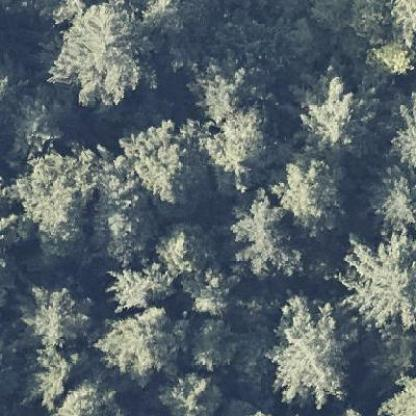tree-top: (51, 5, 165, 106), (123, 116, 219, 218), (269, 296, 358, 404), (221, 189, 311, 281), (198, 101, 285, 184), (338, 234, 415, 327), (93, 306, 186, 380), (296, 79, 376, 159), (17, 270, 92, 350), (105, 257, 183, 310), (158, 367, 226, 415), (153, 224, 214, 276), (52, 374, 125, 415), (28, 348, 88, 396), (366, 170, 415, 228), (371, 376, 415, 415)
